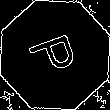P_E: (25, 29, 85, 81)
